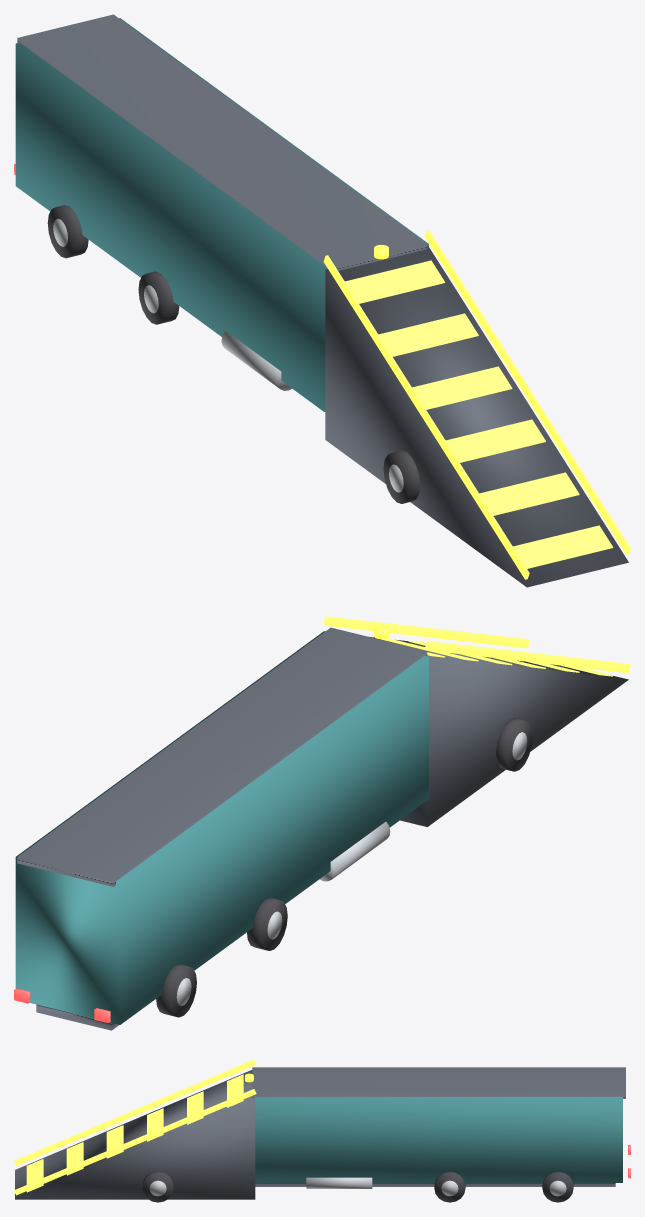
File: truck_ramp.glb
3 renders of one model, top to bottom at view 1: azimuth 30°, elevation 25°; view 2: azimuth 150°, elevation 25°; view 3: azimuth 270°, elevation 25°, orthographic. The views are drawn at different scales.
Visible parts, largest first — view 1: Front_Incline_Ramp, Ramp_Container_Body, Roof_Catwalk, Ramp_Rail_L, Ramp_Rail_R, Wheel_1_L, Wheel_2_L, Wheel_0_L, HydraulicTank_L; view 2: Ramp_Container_Body, Roof_Catwalk, Front_Incline_Ramp, Ramp_Rail_L, Ramp_Rail_R, Wheel_2_L, Wheel_1_L, Wheel_0_L, HydraulicTank_L, Chassis_Beams; view 3: Ramp_Container_Body, Front_Incline_Ramp, Roof_Catwalk, Ramp_Rail_L, Ramp_Rail_R, Chassis_Beams, HydraulicTank_R, Wheel_0_R, Wheel_1_R, Wheel_2_R, Rim_0_R, Rim_1_R (+1 smaller).
Part boxes in pixels (x1,y1,x2,y2): Front_Incline_Ramp: (325,245,628,587); Ramp_Container_Body: (15,18,428,411); Roof_Catwalk: (17,14,427,270); Ramp_Rail_L: (323,255,529,579); Ramp_Rail_R: (425,230,630,554); Wheel_1_L: (138,271,179,324); Wheel_2_L: (47,205,88,258); Wheel_0_L: (383,450,419,503); HydraulicTank_L: (221,331,291,390); Ramp_Container_Body: (15,631,428,1024); Roof_Catwalk: (17,627,427,886); Front_Incline_Ramp: (370,637,628,826); Ramp_Rail_L: (425,641,630,673); Ramp_Rail_R: (323,616,529,648); Wheel_2_L: (156,964,196,1017); Wheel_1_L: (247,897,287,950); Wheel_0_L: (496,718,532,771); HydraulicTank_L: (319,821,390,881); Chassis_Beams: (36,1004,119,1030); Ramp_Container_Body: (255,1097,622,1182); Front_Incline_Ramp: (15,1070,255,1199); Roof_Catwalk: (252,1067,625,1098); Ramp_Rail_L: (14,1059,256,1165); Ramp_Rail_R: (14,1089,256,1195); Chassis_Beams: (255,1183,615,1186); HydraulicTank_R: (306,1177,372,1188); Wheel_0_R: (142,1171,173,1202); Wheel_1_R: (434,1171,465,1202); Wheel_2_R: (542,1171,573,1202); Rim_0_R: (149,1180,166,1196); Rim_1_R: (441,1180,458,1196).
Bounding box in the file's own units: 2.84 × 4.05 × 20.55.
